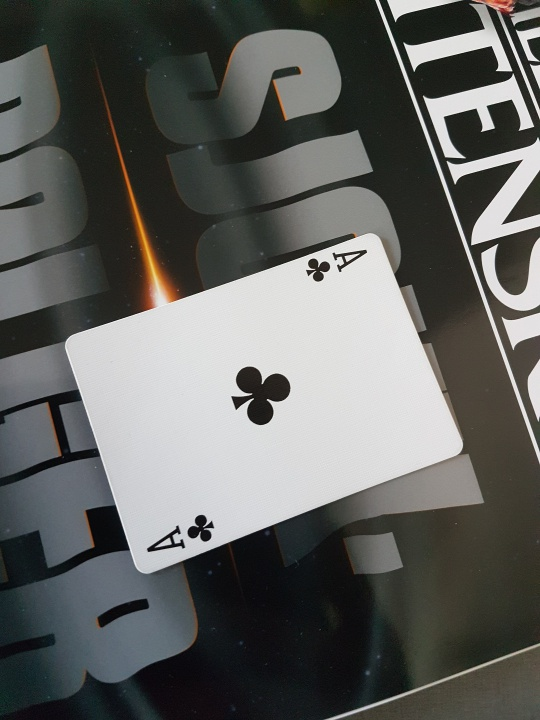ace: (60, 207, 455, 585)
